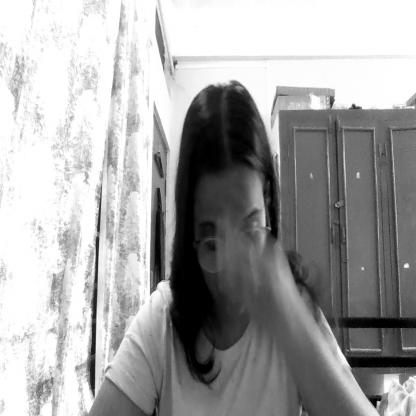Distracted: (191, 157, 269, 328)
